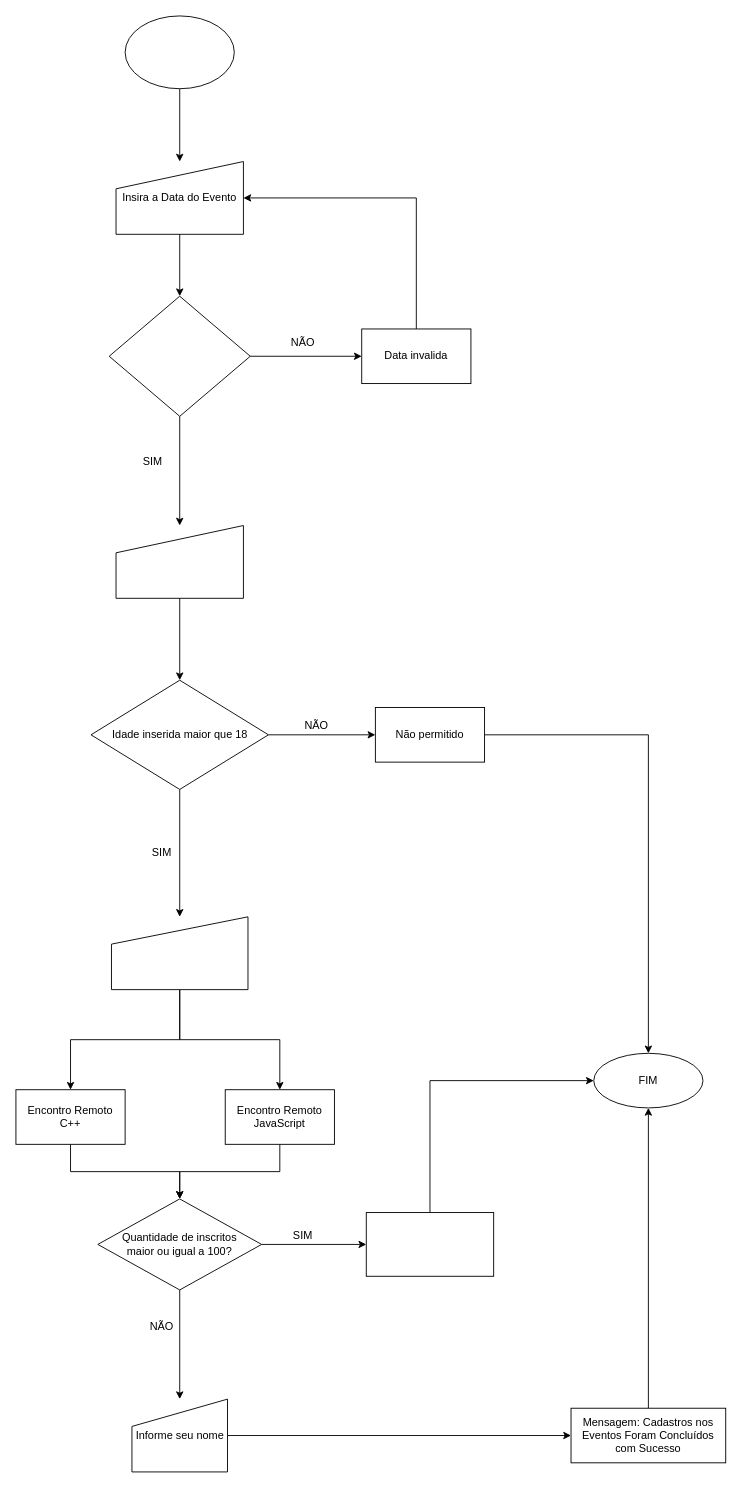
This 742x1488 diagram has some shape labels left out. Each missing label, with the centre of its shape:
"Escolha um evento" belongs at (x=179, y=953).
"INICIO" belongs at (x=179, y=52).
"Insira sua Idade" belongs at (x=179, y=561).
"Mensagem: A lista de convidados esta cheia." belongs at (x=429, y=1244).
"Se a data inserida for posterior a data atual" belongs at (x=179, y=355).
